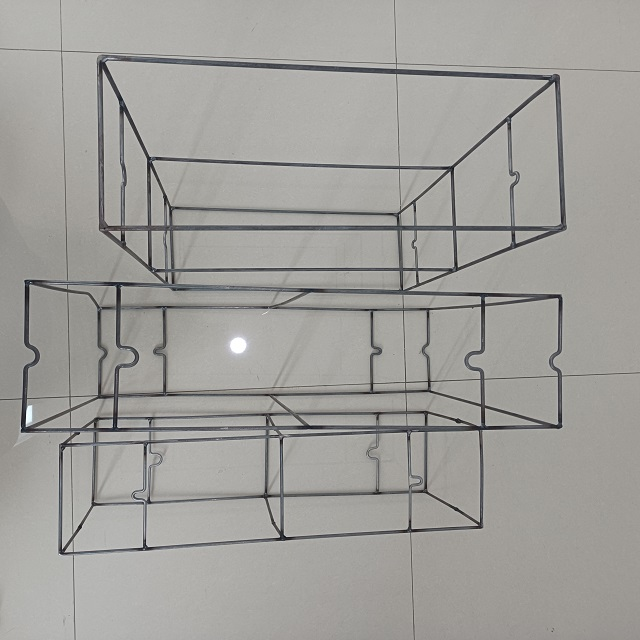curvedhole: (460, 336, 494, 385), (13, 332, 46, 380), (110, 334, 140, 384), (541, 341, 569, 384), (125, 479, 150, 514), (415, 330, 437, 367), (365, 338, 388, 373), (365, 436, 387, 471), (150, 336, 170, 372), (506, 158, 523, 200), (143, 446, 169, 473), (404, 467, 425, 498), (90, 340, 110, 368), (403, 229, 425, 254)
